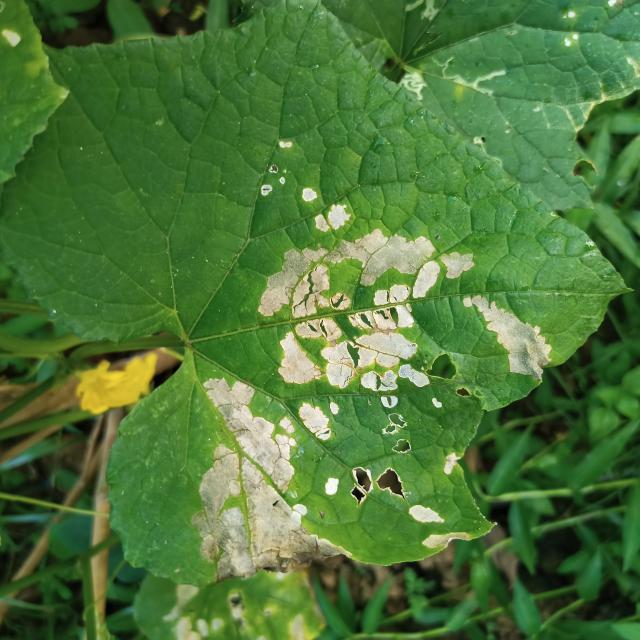disease_cucumber: (252, 139, 565, 394), (195, 371, 480, 593)
